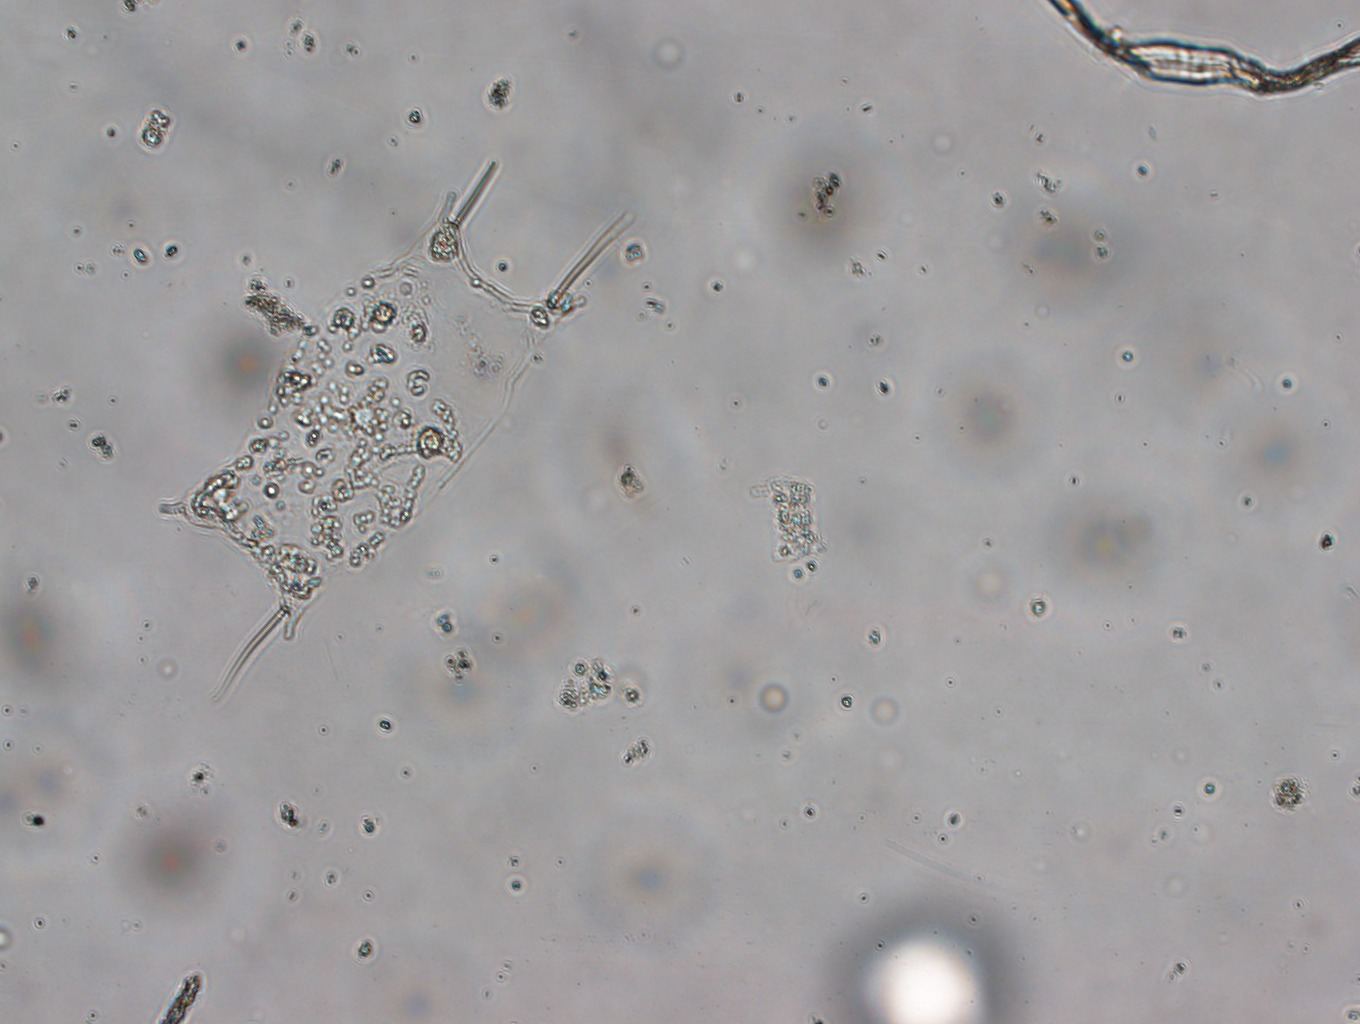biddulphia: (164, 168, 645, 691)
